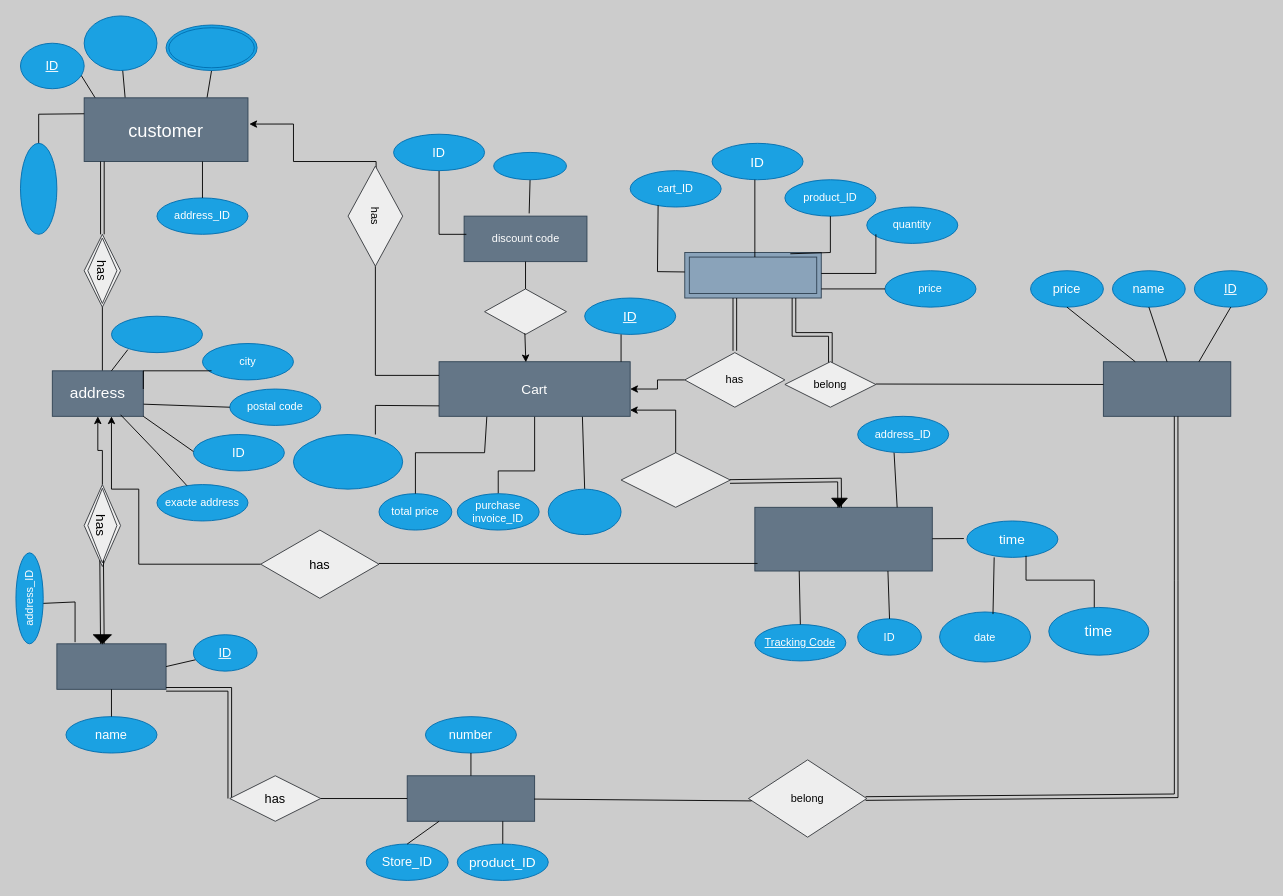
This 1283x896 diagram has some shape labels left out. The shapes that lost their labels are listed below. From the top down, each one's centre as x and y in pixels, then its label:
At pixel 120 43: "first_name".
At pixel 211 47: "phone_number".
At pixel 529 166: "value".
At pixel 38 188: "last_name".
At pixel 752 275: "cart item".
At pixel 525 311: "redeem".
At pixel 156 334: "country".
At pixel 1166 388: "product".
At pixel 348 461: "discount code_ID".
At pixel 675 479: "purchase".
At pixel 584 511: "customer_ID".
At pixel 843 538: "Purchase Invoice".
At pixel 111 666: "store".
At pixel 470 798: "inventory".
